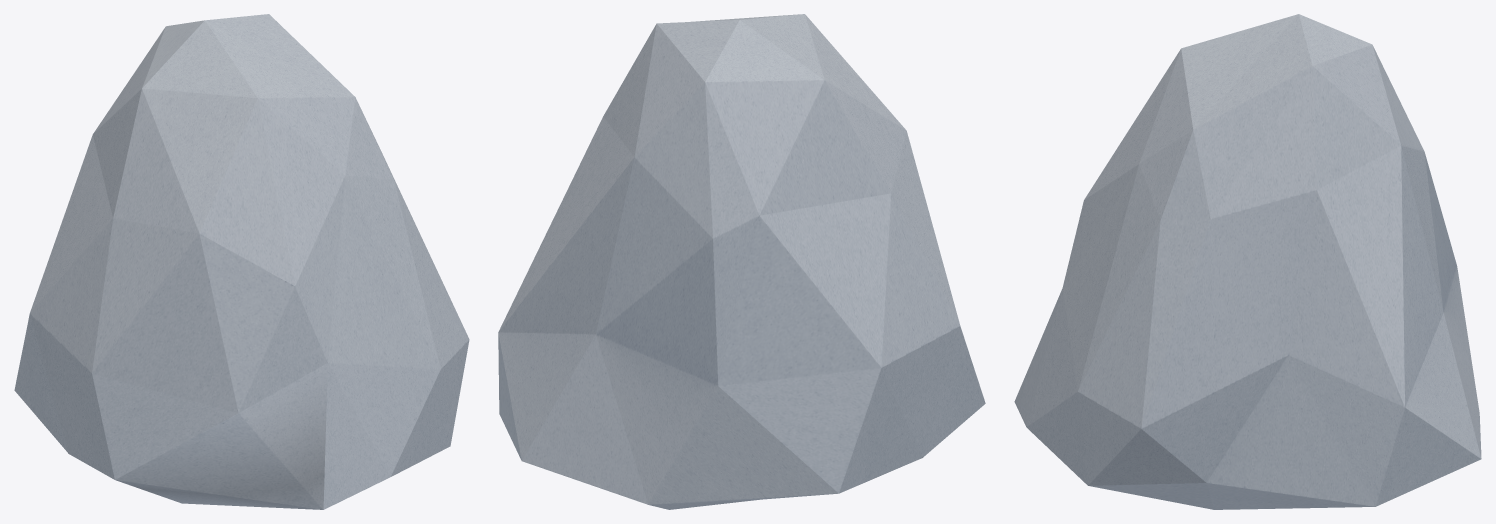
The model's file is stone_sea.glb.
3 renders of one model, left to right at view 1: azimuth 30°, elevation 25°; view 2: azimuth 150°, elevation 25°; view 3: azimuth 270°, elevation 25°, orthographic. The views are drawn at different scales.
Parts seen in each view (by area): view 1: Icosphere.002; view 2: Icosphere.002; view 3: Icosphere.002.
Boxes of the visible parts, left/top/right/bottom form: Icosphere.002: left=14, top=14, right=469, bottom=509; Icosphere.002: left=498, top=14, right=985, bottom=509; Icosphere.002: left=1014, top=14, right=1481, bottom=509.
Bounding box in the file's own units: 0.7034 × 0.8785 × 0.7905.
1 material, 1 textured.
